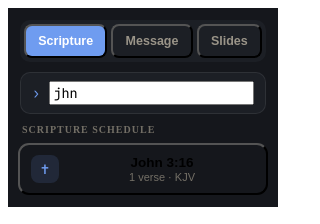
Test: SchedulePanel › renders the alias ghost as an arrow to the book name
Focus the field with placeholder "Add verse — John 3:16, or search a word" at (152, 93), box [49,81,254,105]
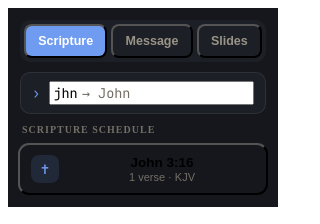
Result: the text "→ John" is shown at [74,84,130,102]
